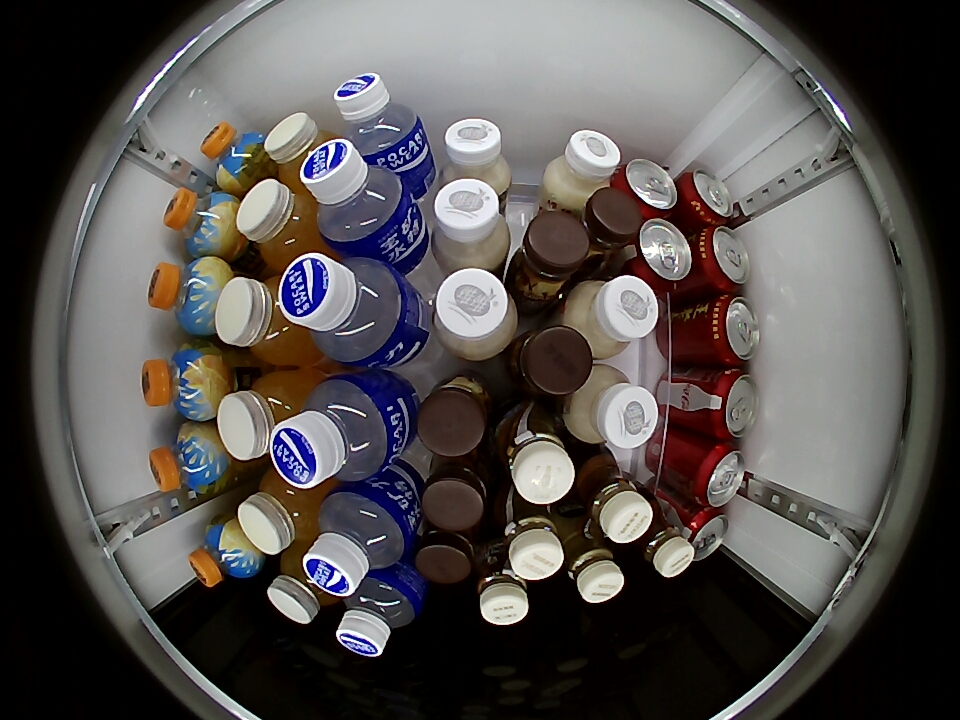baokuangli: (278, 252, 412, 368), (270, 372, 403, 488), (301, 140, 414, 255), (304, 484, 414, 595), (334, 73, 425, 164), (336, 568, 424, 657)
guolicheng: (148, 257, 233, 336), (141, 343, 226, 421), (149, 421, 229, 494), (188, 513, 264, 588), (163, 187, 242, 259), (201, 123, 271, 192)
kafei: (490, 403, 576, 504), (564, 450, 653, 543), (497, 490, 565, 582), (552, 522, 623, 603), (622, 507, 693, 578), (472, 545, 531, 625)
kele: (627, 219, 693, 288), (614, 157, 679, 217), (706, 369, 760, 439), (692, 442, 747, 508), (681, 507, 730, 560)
lujikafei: (510, 214, 589, 303), (416, 375, 493, 459), (507, 325, 592, 398), (420, 455, 494, 531), (571, 187, 641, 267), (415, 523, 483, 585)
wanglaoji-c: (707, 294, 760, 365), (697, 227, 750, 292), (680, 168, 736, 226)
weic: (215, 276, 316, 368), (217, 370, 312, 461), (237, 178, 328, 268), (237, 470, 329, 555), (267, 547, 340, 625), (264, 112, 334, 188)
weiweidounai: (431, 267, 518, 360), (568, 274, 661, 360), (566, 364, 659, 450), (430, 177, 511, 272), (541, 129, 621, 208), (442, 118, 511, 195)
